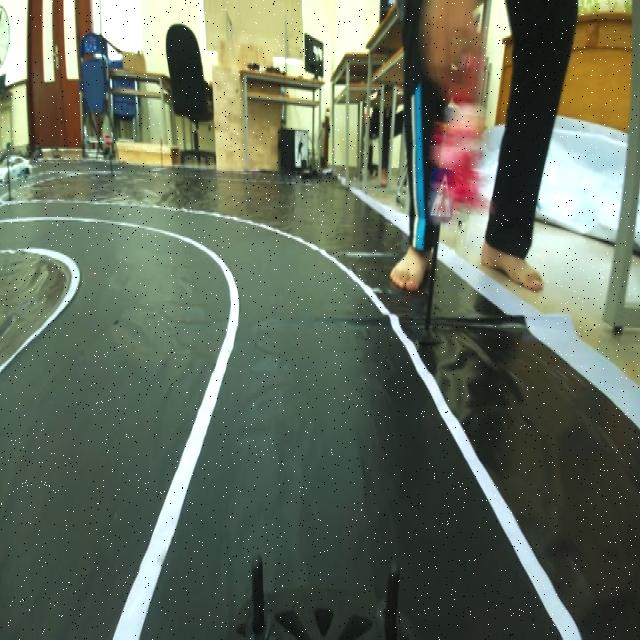crosswalk: (426, 165, 456, 223)
